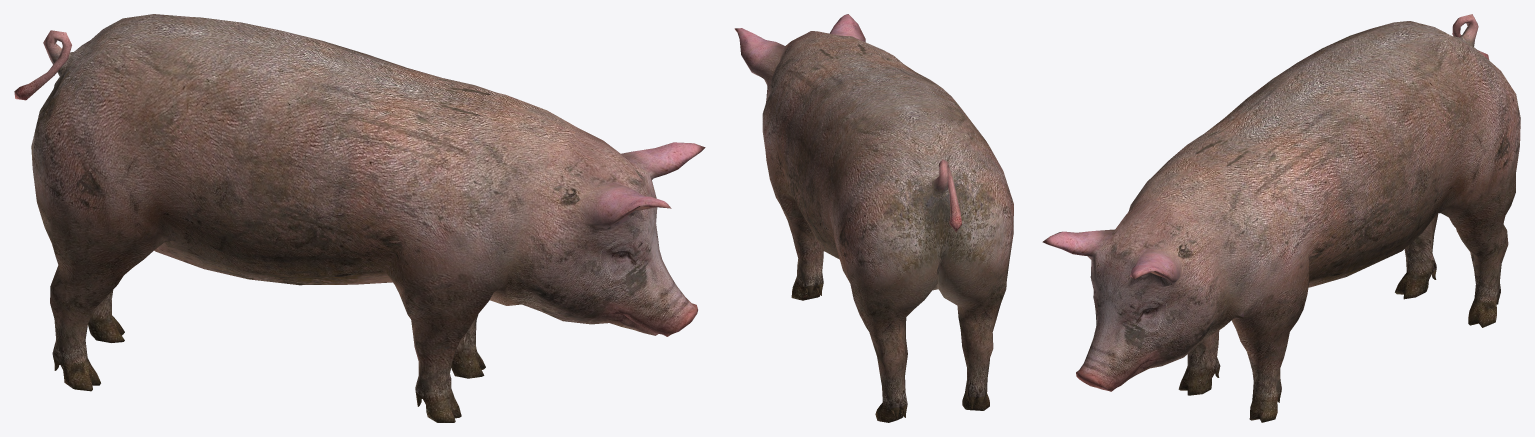
Rendered from pig_scale.glb.
3 views of the same model, side by side, from view 1: azimuth 30°, elevation 25°; view 2: azimuth 150°, elevation 25°; view 3: azimuth 270°, elevation 25° (orthographic). The views are drawn at different scales.
Parts seen in each view (by area): view 1: Mesh_1244_Material #25_0; view 2: Mesh_1244_Material #25_0; view 3: Mesh_1244_Material #25_0.
Part boxes in pixels (x1,y1,x2,y2): Mesh_1244_Material #25_0: (14,14,705,422); Mesh_1244_Material #25_0: (734,14,1013,422); Mesh_1244_Material #25_0: (1042,14,1520,422).
Size of the model in its own units: 0.00649 by 0.00422 by 0.00626.
1 material, 1 textured.
